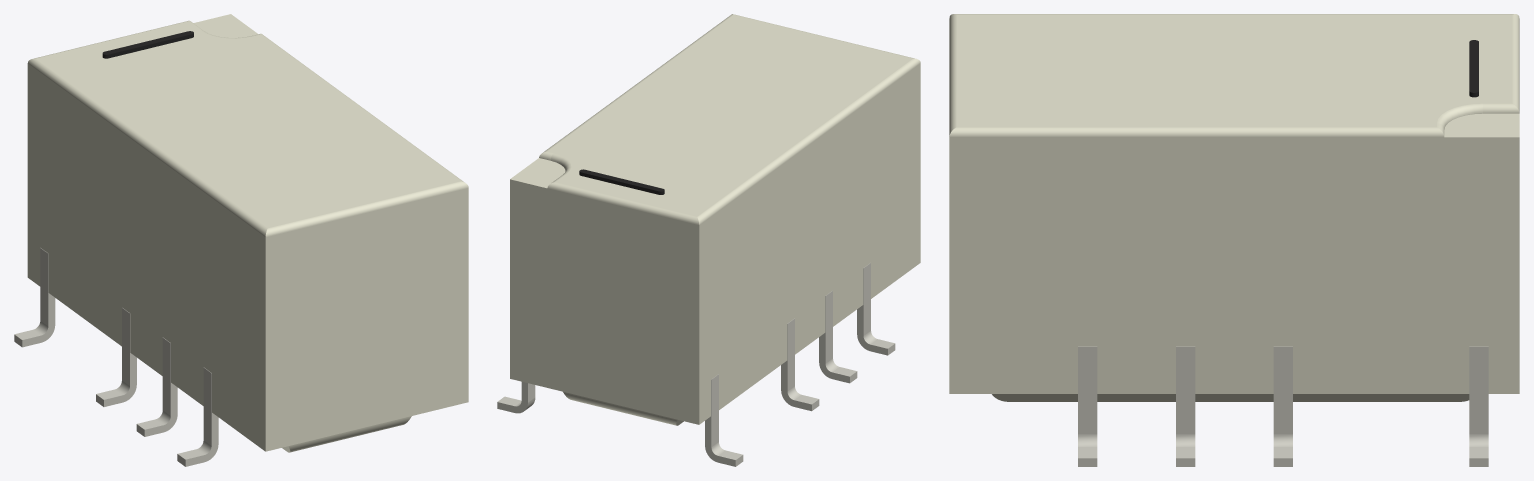
File: kc-relay_dpdt_omron_g6s-2f.glb
The picture shows the model from 3 angles, left to right: view 1: azimuth 30°, elevation 25°; view 2: azimuth 150°, elevation 25°; view 3: azimuth 270°, elevation 25°; orthographic projection. The views are drawn at different scales.
Parts seen in each view (by area): view 1: 0.75_0.75_0.6666666666666666_0, 0.6666666666666666_0.6666666666666666_0.5833333333333334_0.8, 0_0_0_0; view 2: 0.75_0.75_0.6666666666666666_0, 0.6666666666666666_0.6666666666666666_0.5833333333333334_0.8, 0_0_0_0; view 3: 0.75_0.75_0.6666666666666666_0, 0.6666666666666666_0.6666666666666666_0.5833333333333334_0.8.
Part boxes in pixels (x1=…): 0.75_0.75_0.6666666666666666_0: x1=27, y1=14, x2=468, y2=452; 0.6666666666666666_0.6666666666666666_0.5833333333333334_0.8: x1=14, y1=248, x2=218, y2=466; 0_0_0_0: x1=102, y1=31, x2=193, y2=58; 0.75_0.75_0.6666666666666666_0: x1=510, y1=14, x2=920, y2=425; 0.6666666666666666_0.6666666666666666_0.5833333333333334_0.8: x1=497, y1=263, x2=895, y2=466; 0_0_0_0: x1=579, y1=169, x2=664, y2=194; 0.75_0.75_0.6666666666666666_0: x1=949, y1=14, x2=1519, y2=401; 0.6666666666666666_0.6666666666666666_0.5833333333333334_0.8: x1=1078, y1=346, x2=1488, y2=466.
Size of the model in its own units: 0.92 by 0.933 by 1.48.
